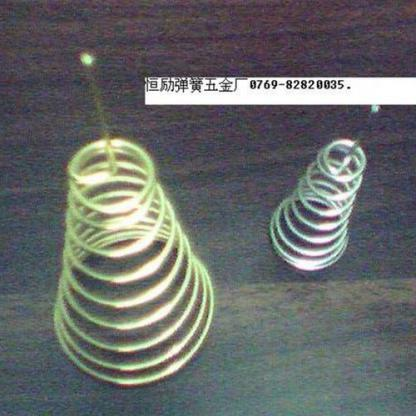FOD: (51, 50, 219, 390), (265, 104, 381, 274)
